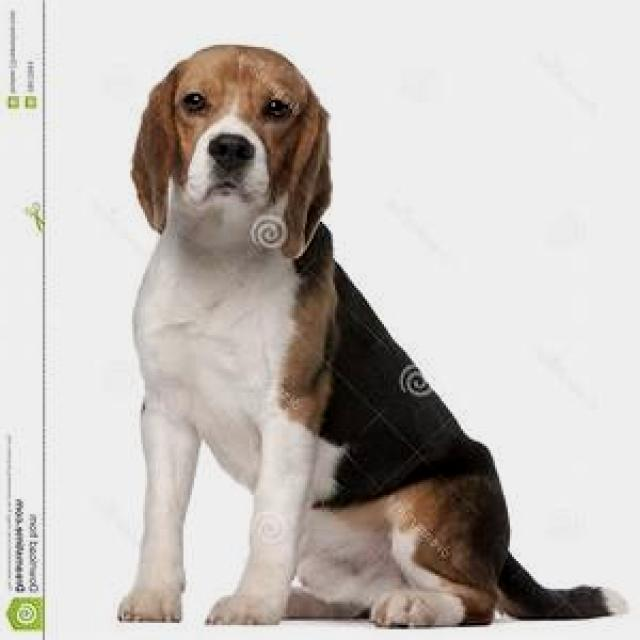KOPEK: (99, 27, 623, 619)
